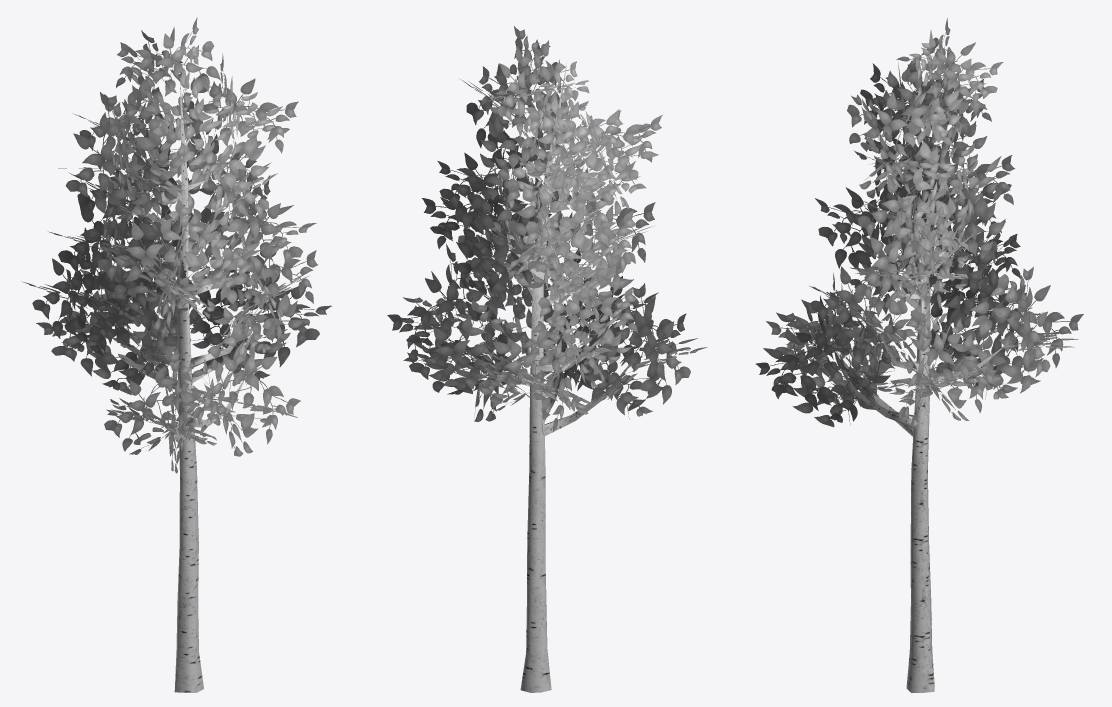
The model's file is Birch_02.fbx.
3 renders of one model, left to right at view 1: azimuth 30°, elevation 25°; view 2: azimuth 150°, elevation 25°; view 3: azimuth 270°, elevation 25°, orthographic.
Visible parts, largest first — view 1: FAE_Birch_B_LOD0; view 2: FAE_Birch_B_LOD0; view 3: FAE_Birch_B_LOD0.
Boxes of the visible parts, x1,y1,x2,y2 form: FAE_Birch_B_LOD0: (22, 17, 331, 692); FAE_Birch_B_LOD0: (387, 26, 707, 692); FAE_Birch_B_LOD0: (755, 18, 1083, 692).
Size of what is drawn, in the model's own units: 664 by 1529 by 745.
